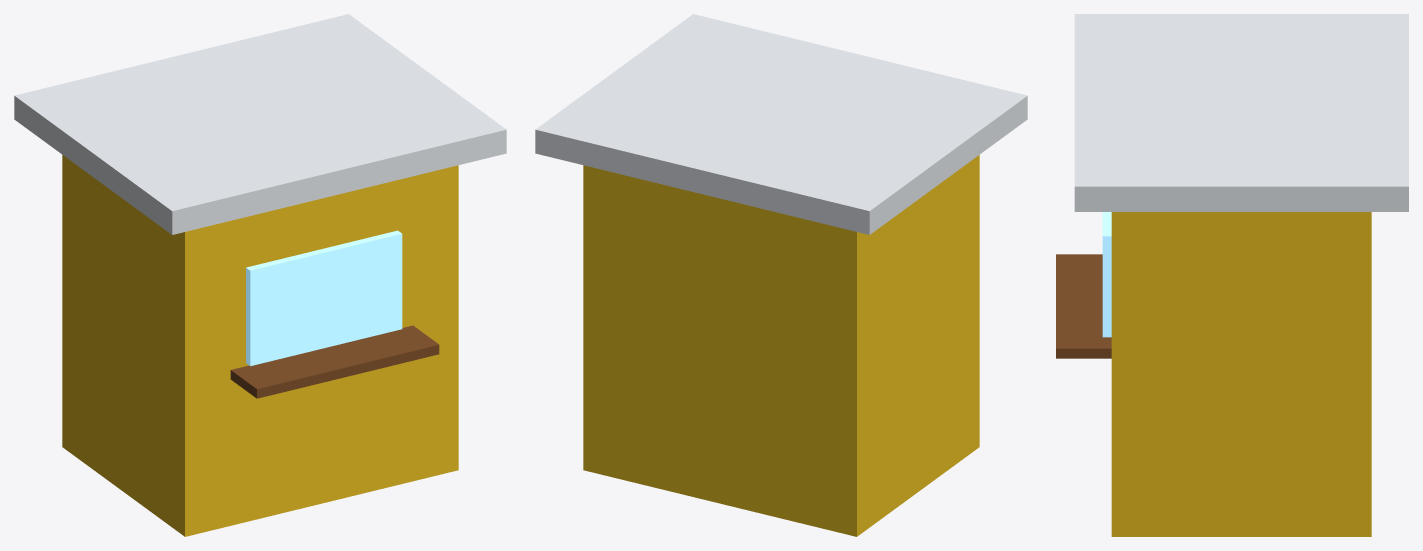
File: ticket_booth.glb
3 renders of one model, left to right at view 1: azimuth 30°, elevation 25°; view 2: azimuth 150°, elevation 25°; view 3: azimuth 270°, elevation 25°, orthographic. The views are drawn at different scales.
Parts seen in each view (by area): view 1: ticket_booth; view 2: ticket_booth; view 3: ticket_booth.
Boxes of the visible parts, x1,y1,x2,y2 form: ticket_booth: (14, 14, 506, 536); ticket_booth: (535, 14, 1027, 536); ticket_booth: (1056, 14, 1408, 536).
Bounding box in the file's own units: 2.2 × 2.17 × 1.9.
